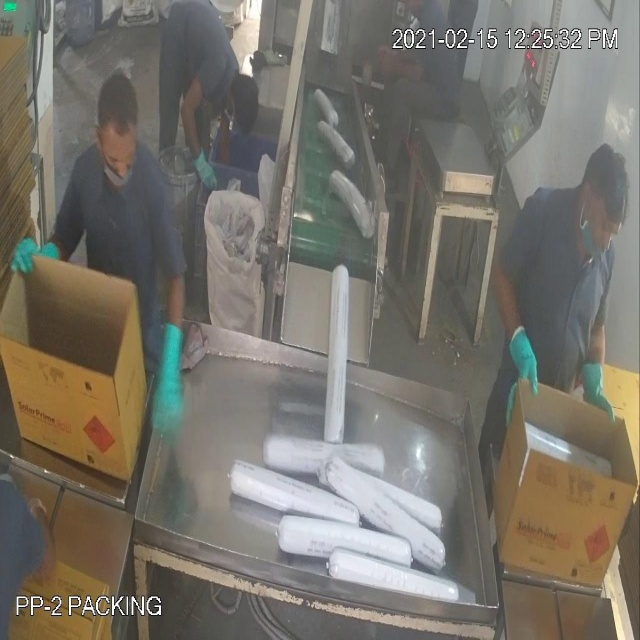Guantes: (133, 290, 194, 447), (6, 220, 66, 287), (507, 324, 543, 430)
Sin_guantes: (8, 462, 63, 596), (374, 38, 432, 88)
